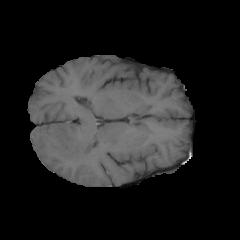glioma: (58, 136, 94, 160)
